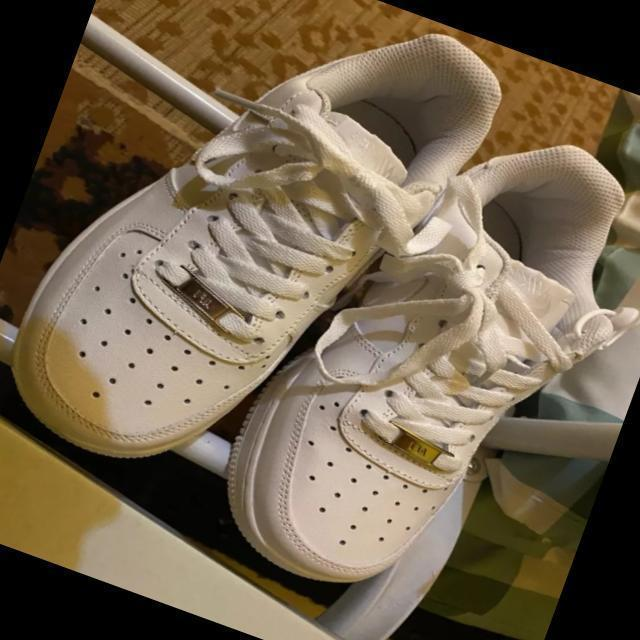nike original air force: (0, 0, 531, 555), (189, 70, 640, 640)
